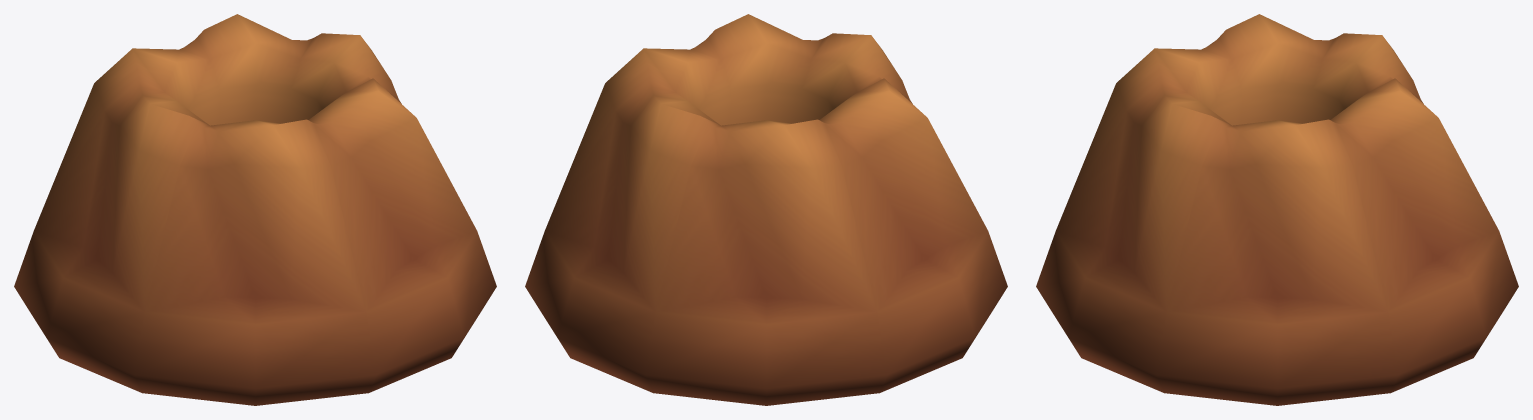
Rendered from m_Gugelhupf02.fbx.
3 views of the same model, side by side, from view 1: azimuth 30°, elevation 25°; view 2: azimuth 150°, elevation 25°; view 3: azimuth 270°, elevation 25° (orthographic).
Parts seen in each view (by area): view 1: m_Gugelhupf02; view 2: m_Gugelhupf02; view 3: m_Gugelhupf02.
Part boxes in pixels (bbox=[...]): m_Gugelhupf02: bbox=[14, 14, 496, 405]; m_Gugelhupf02: bbox=[525, 14, 1007, 405]; m_Gugelhupf02: bbox=[1036, 14, 1518, 405].
Size of the model in its own units: 29 by 15.94 by 29.
